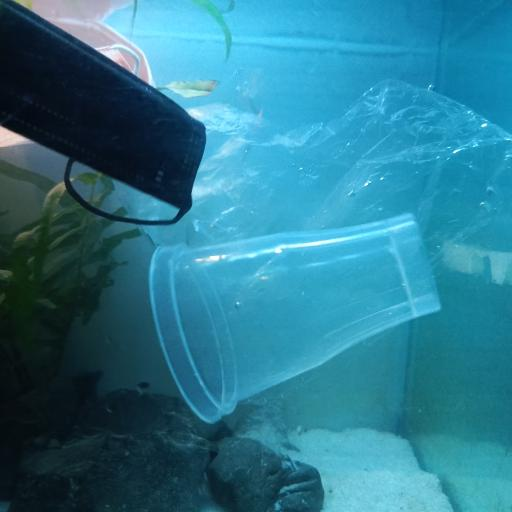mask: (0, 0, 208, 225), (0, 17, 156, 150)
plastic_bag: (125, 80, 512, 318)
plastic_cup: (150, 216, 442, 424)
